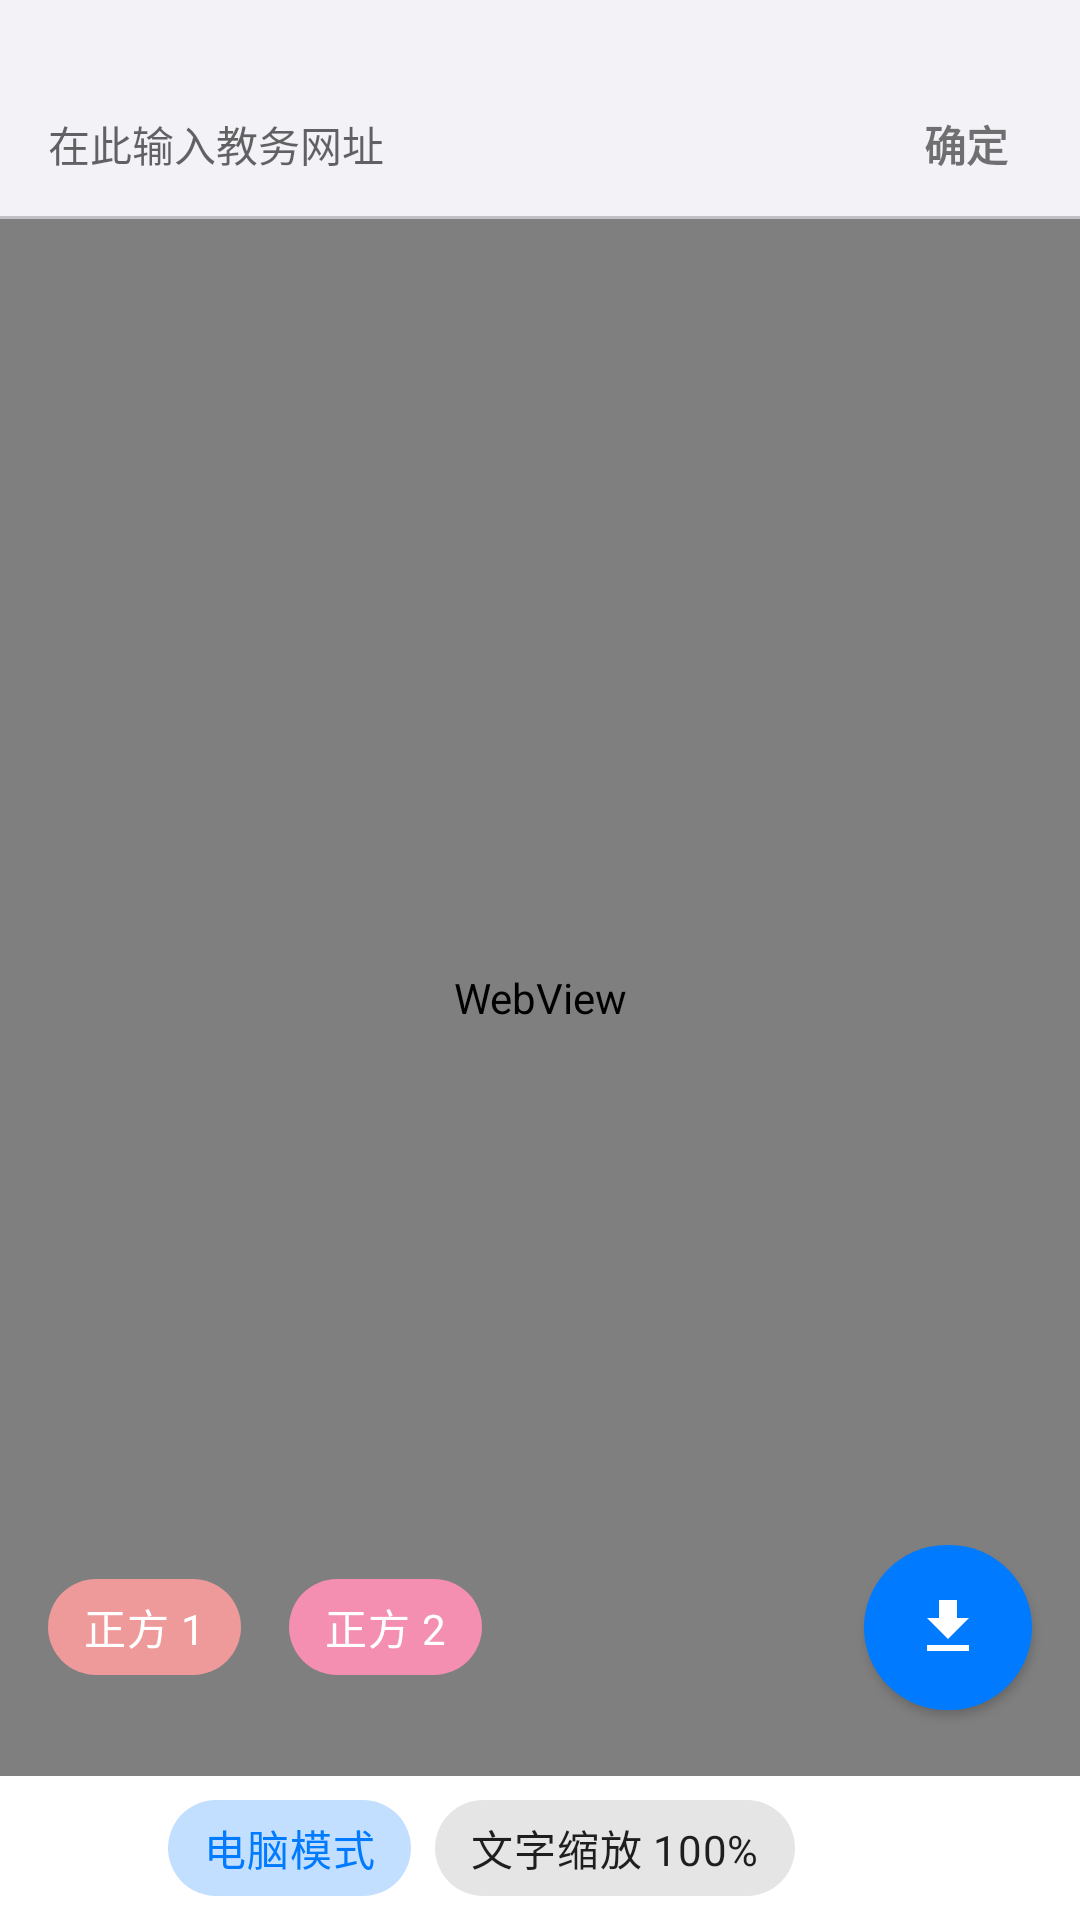

Where icons sit on this 1080px×1920px app screen, as {"x1": x1, "y1": y1, "x2": x2, "y2": y2}:
import download: {"x1": 864, "y1": 1545, "x2": 1032, "y2": 1710}
